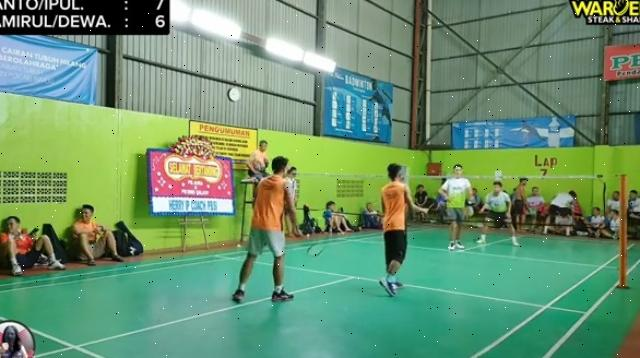Shuttlecock: (466, 198, 476, 208)
